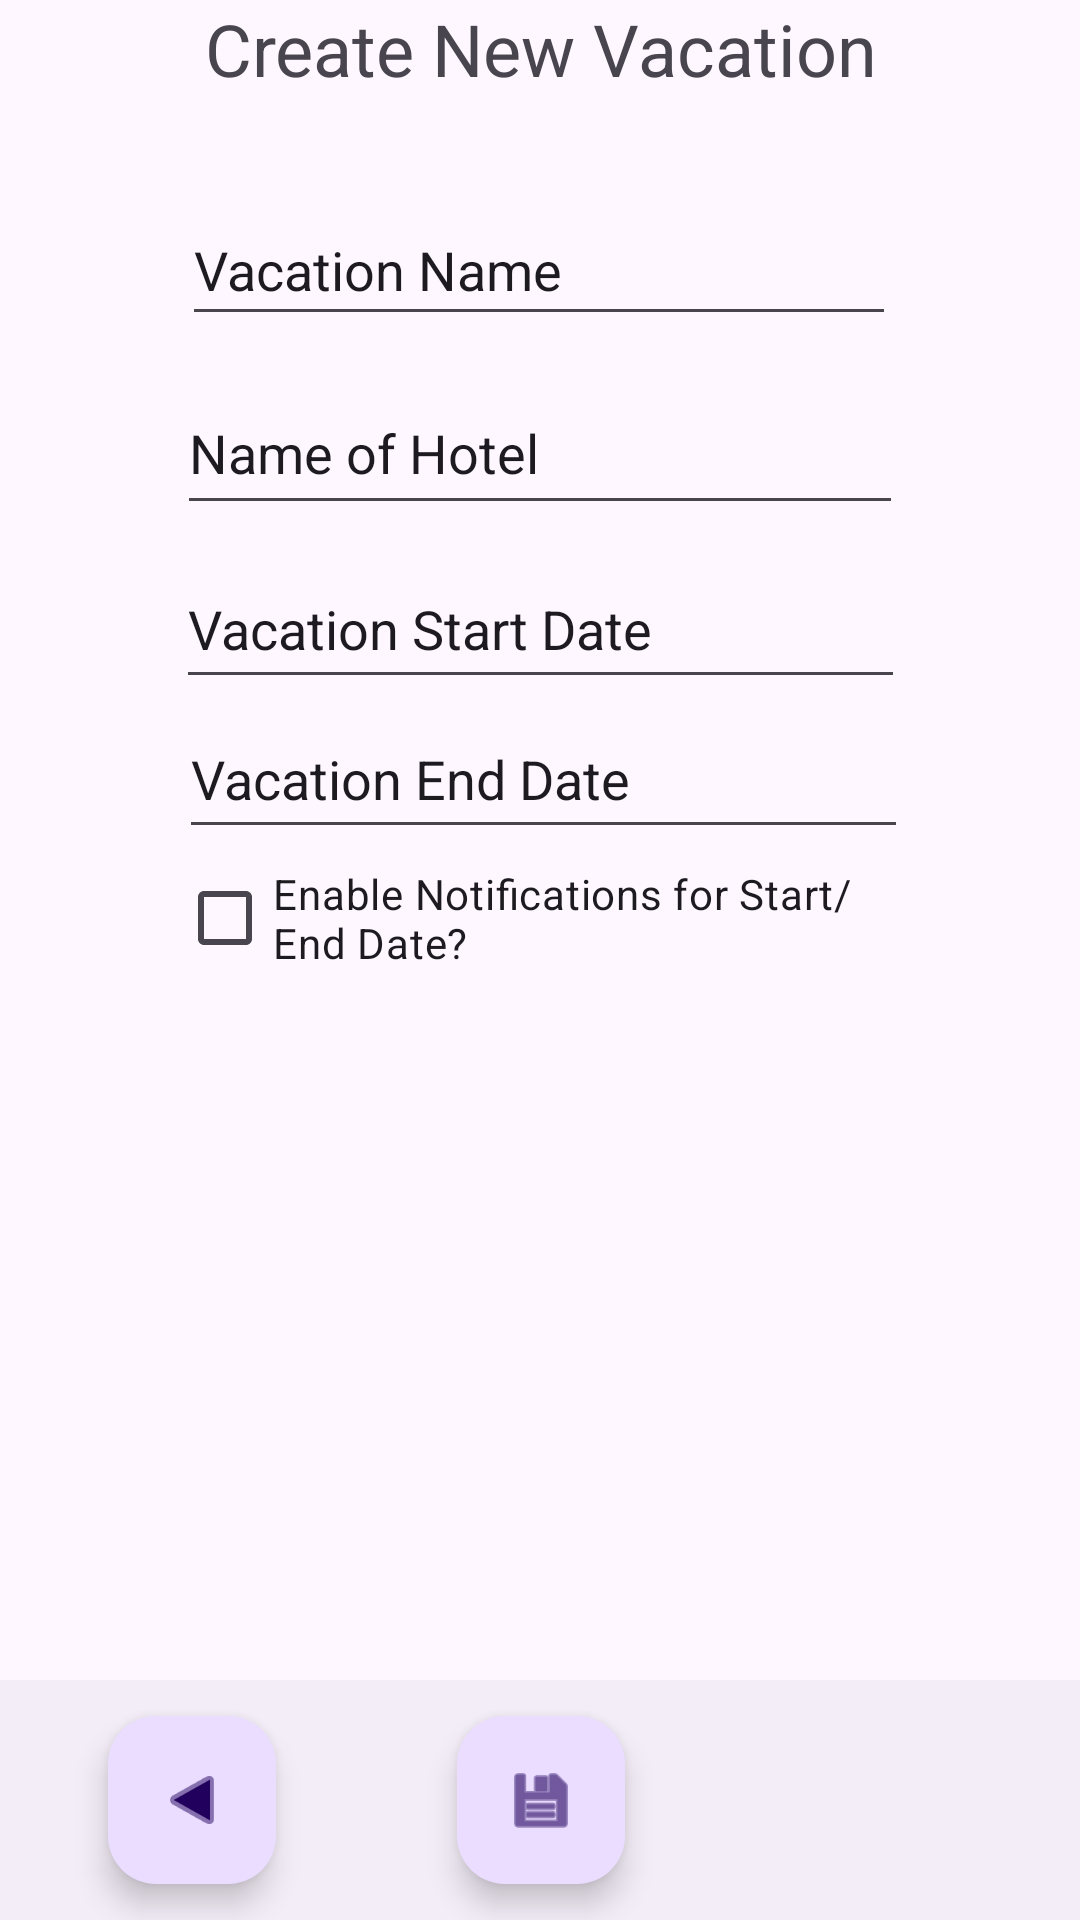

Where icons sit on this 1080x1920 app screen, as [x1, y1, x2, y2]:
save: [514, 1773, 568, 1828]
